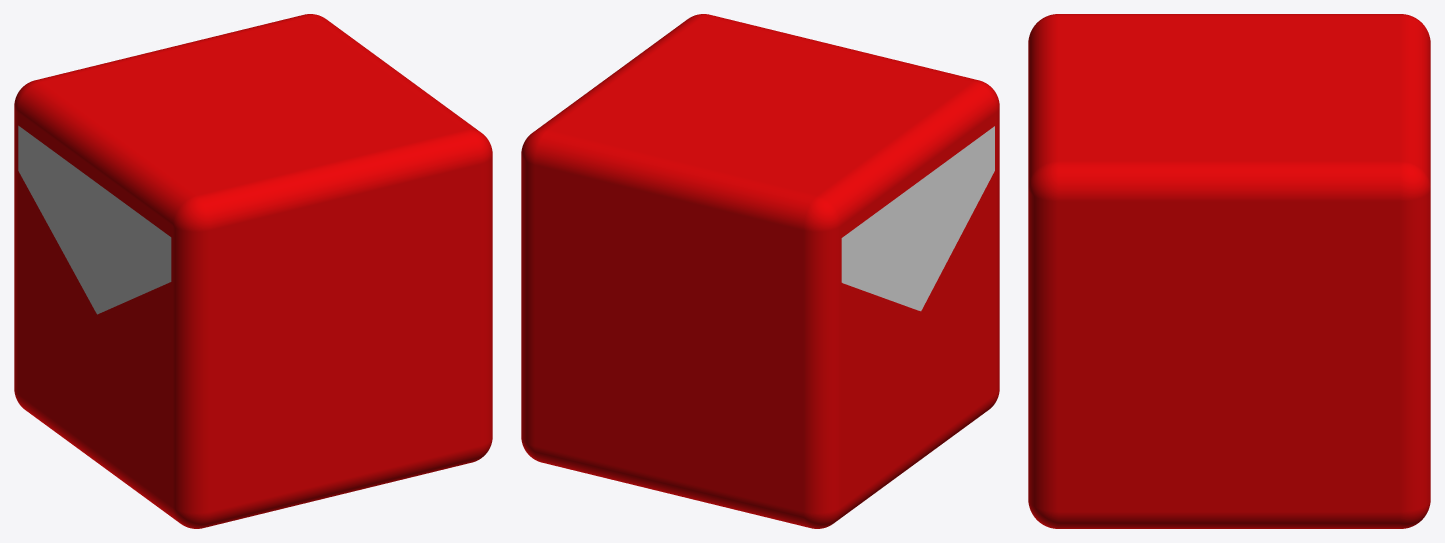
The picture shows the model from 3 angles, left to right: view 1: azimuth 30°, elevation 25°; view 2: azimuth 150°, elevation 25°; view 3: azimuth 270°, elevation 25°; orthographic projection. The views are drawn at different scales.
Parts seen in each view (by area): view 1: Cube, Plane; view 2: Cube, Plane; view 3: Cube.
Boxes of the visible parts, x1,y1,x2,y2 form: Cube: (14,14,492,528); Plane: (18,125,171,314); Cube: (521,14,999,528); Plane: (841,126,994,311); Cube: (1028,14,1430,528).
Bounding box in the file's own units: 200 × 200 × 200.
